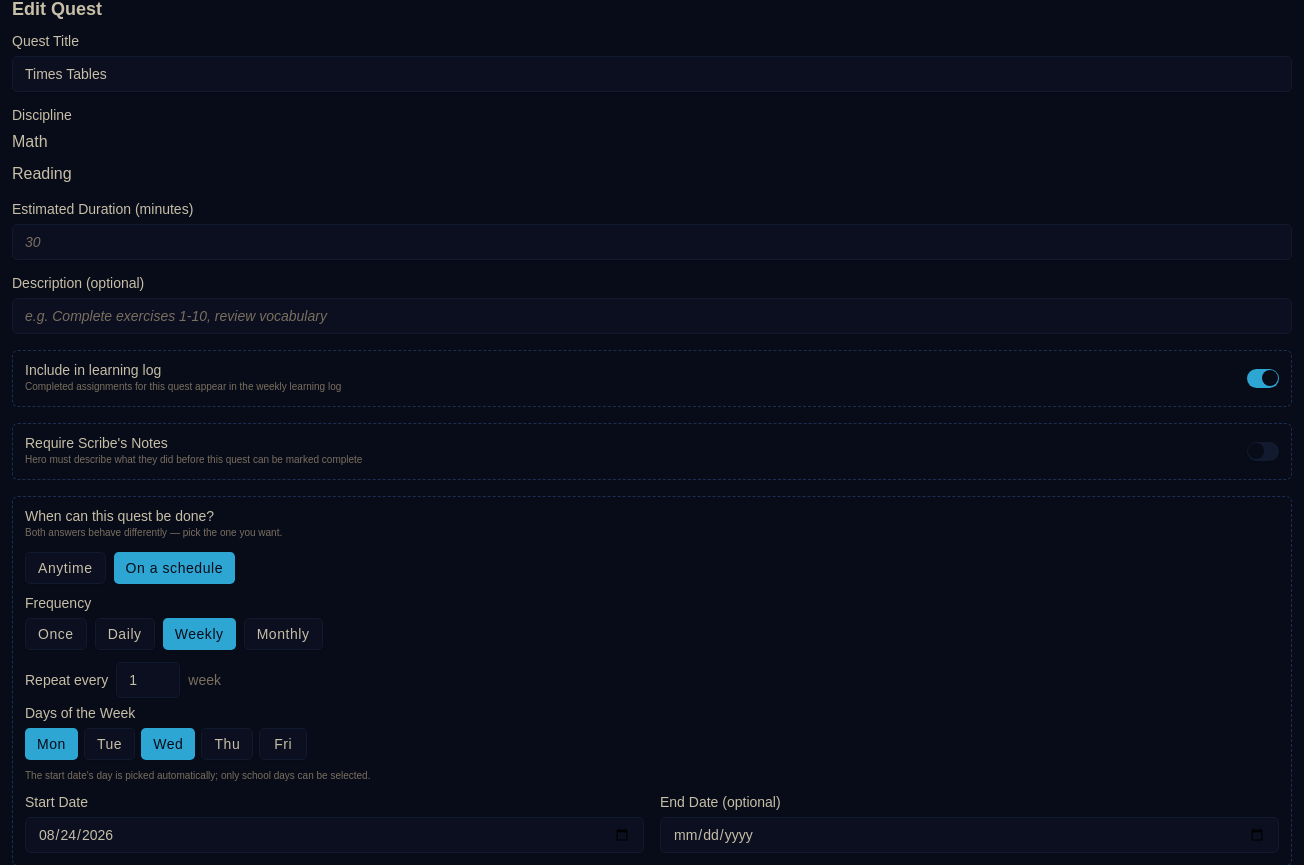
Scenario: QuestTemplateForm schedule-gap warning › explains the consequence rather than just flagging it
This screenshot has width=1304, height=865.
Click the button "Fri": (283, 744) [259,728,307,760]
(page scrolled)
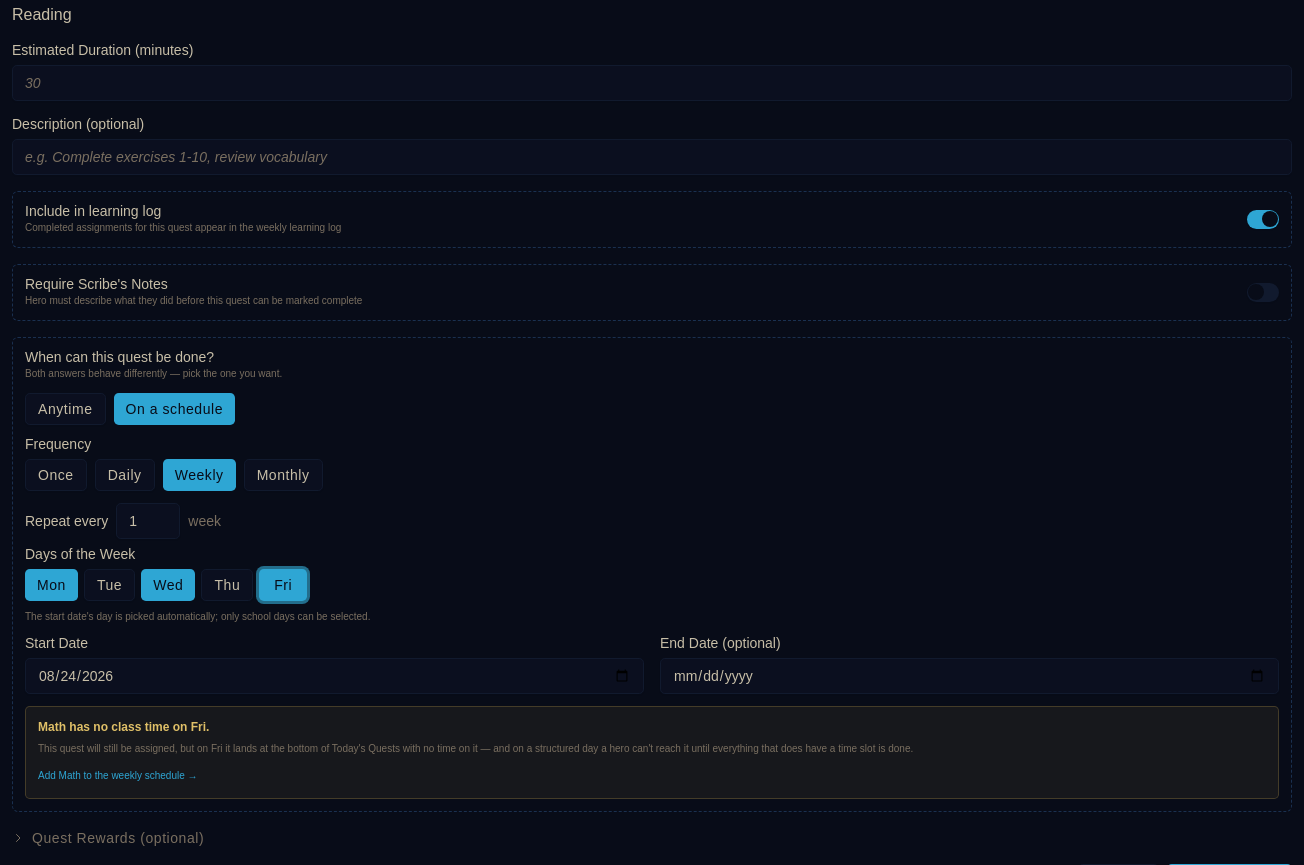
Now the text "structured day a hero can't reach it" is shown, box [222,743,913,754]
